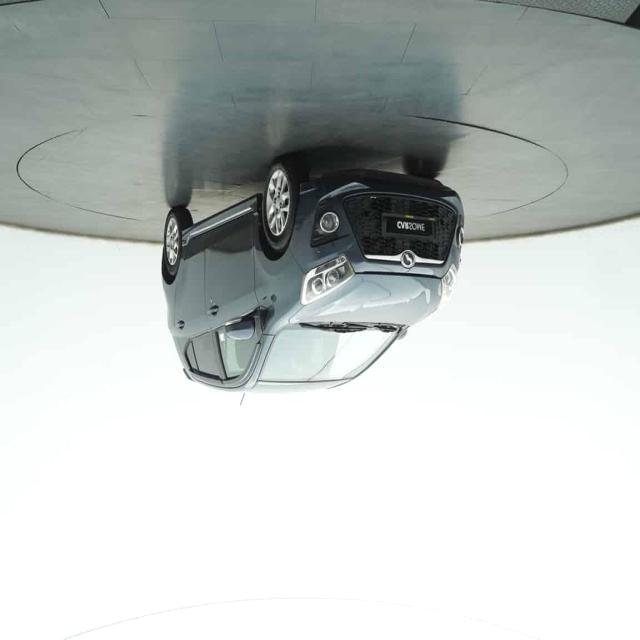PeroduaAxia: (159, 154, 466, 404)
